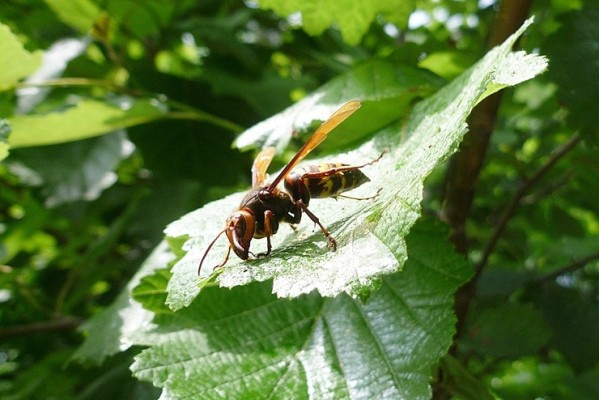asian_giant_hornet: (199, 150, 375, 268)
